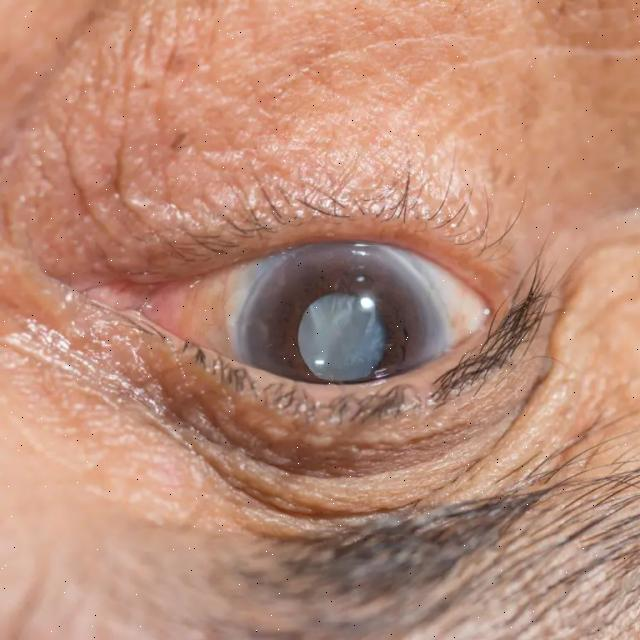Cataract: (231, 232, 444, 454)
